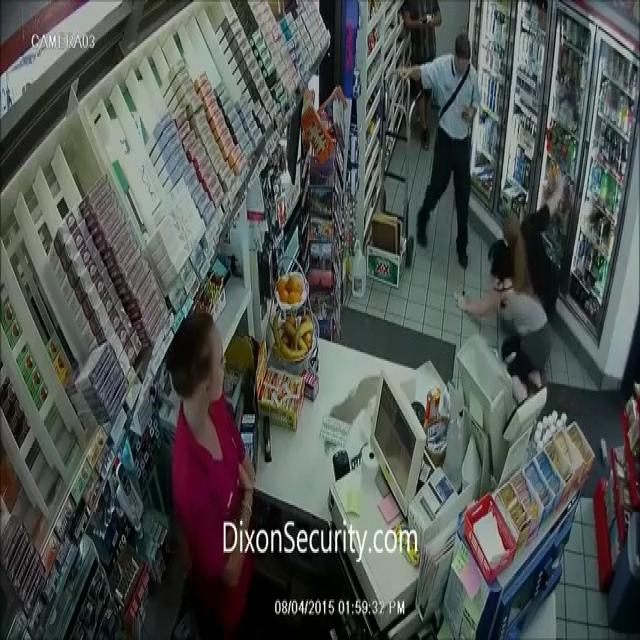fight: (459, 160, 597, 402)
